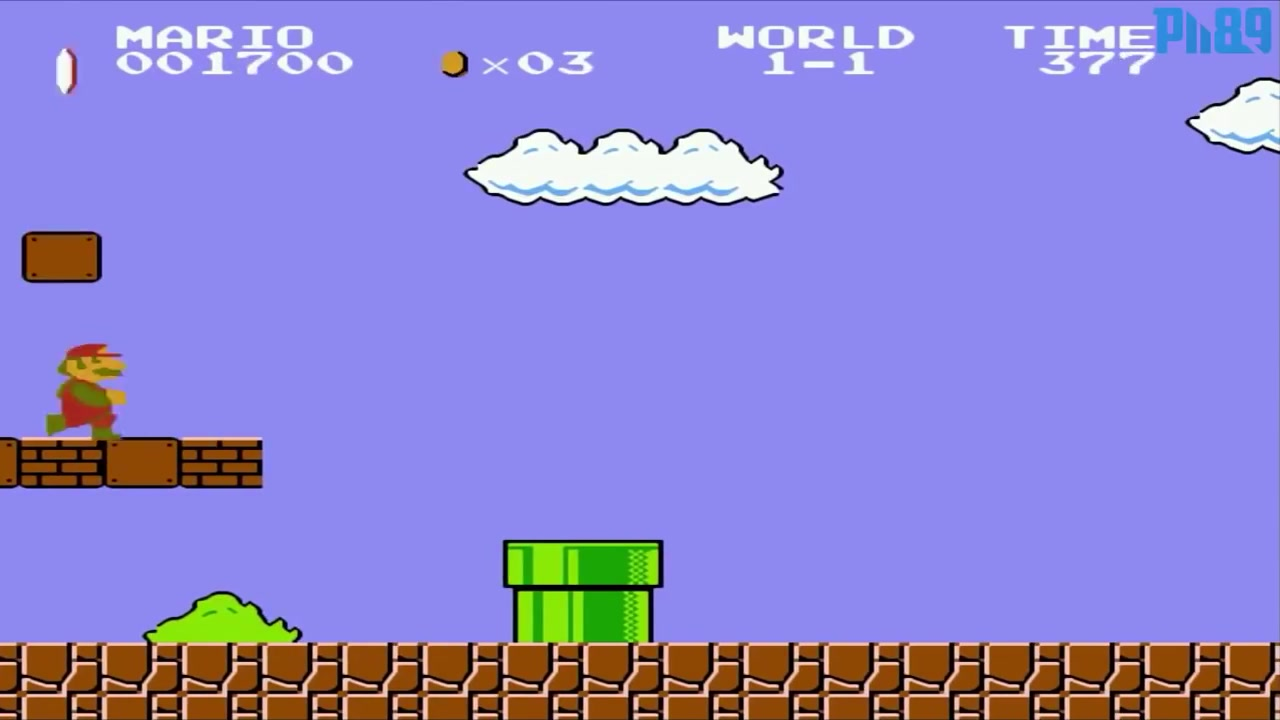mario: (36, 337, 133, 441)
